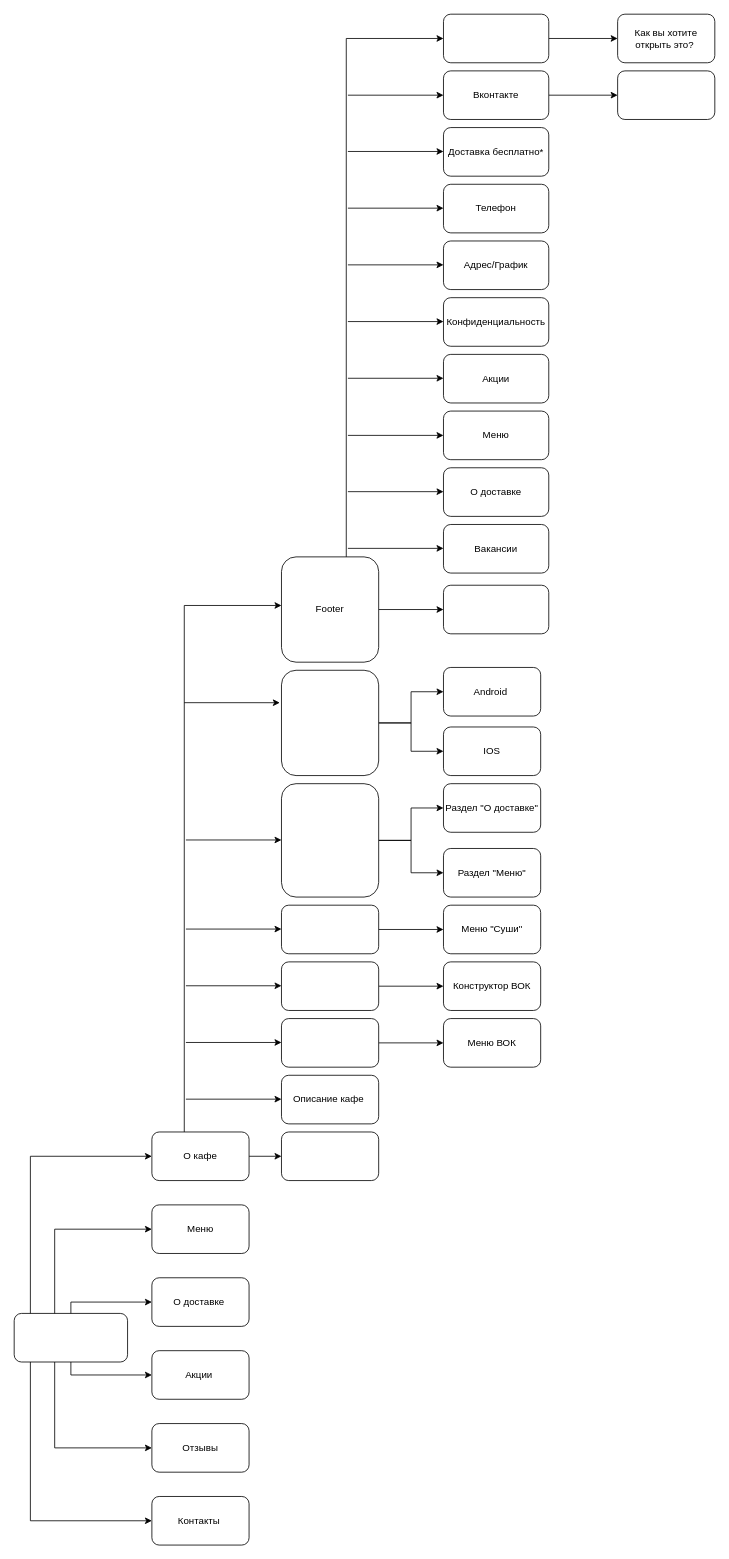
This 729x1559 diagram has some shape labels left out. The centre of each missing label's shape, as x and y in pixels:
"https://manekicafe.ru/" belongs at pixel 70 1337.
"Mail" belongs at pixel 496 38.
"Блюда на воке" belongs at pixel 330 1042.
"Видеопрезентация" belongs at pixel 330 1156.
"Доставка" belongs at pixel 330 840.
"О манеки" belongs at pixel 496 609.
"Скачать мобильное приложение (IOS, Android)" belongs at pixel 330 722.
"Соберите свой ВОК" belongs at pixel 330 985.
"Страница Вконтакте" belongs at pixel 666 94.
"Японская кухня" belongs at pixel 330 929.
